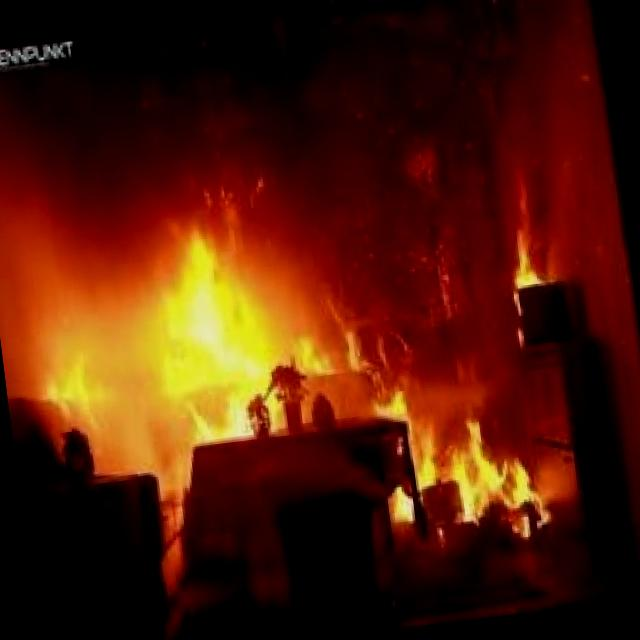fire: (0, 43, 613, 600)
